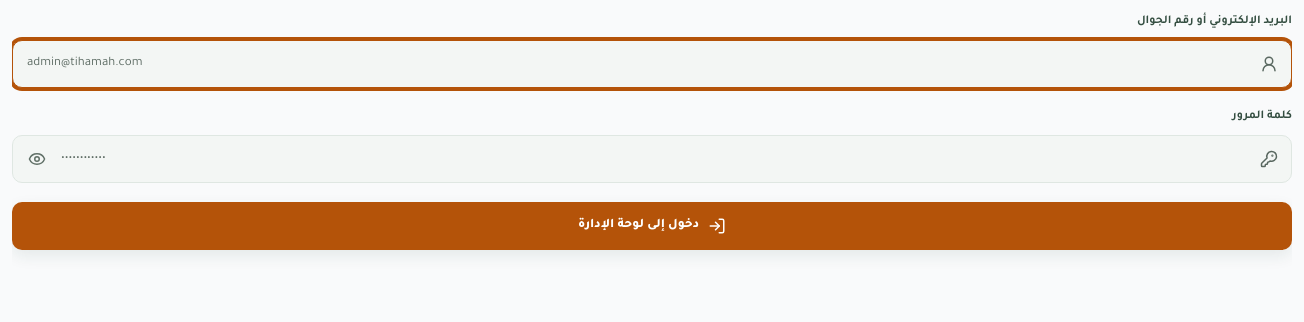
it: LoginForm › validates required fields before submitting
The image size is (1304, 322).
Click the button "دخول إلى لوحة الإدارة": click(652, 226) [12,202,1292,250]
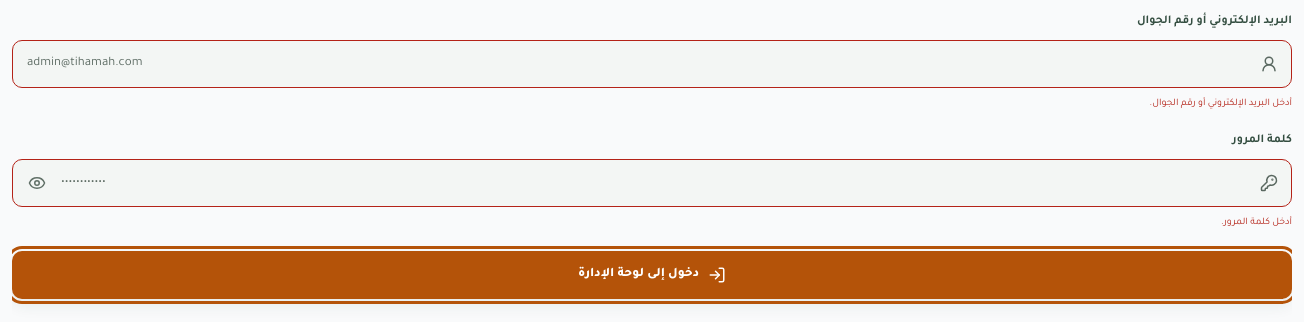
expect the text "أدخل البريد الإلكتروني أو رقم الجوال." is shown: met, box [1150,99,1292,109]
expect the text "أدخل كلمة المرور." is shown: met, box [1221,218,1292,228]
